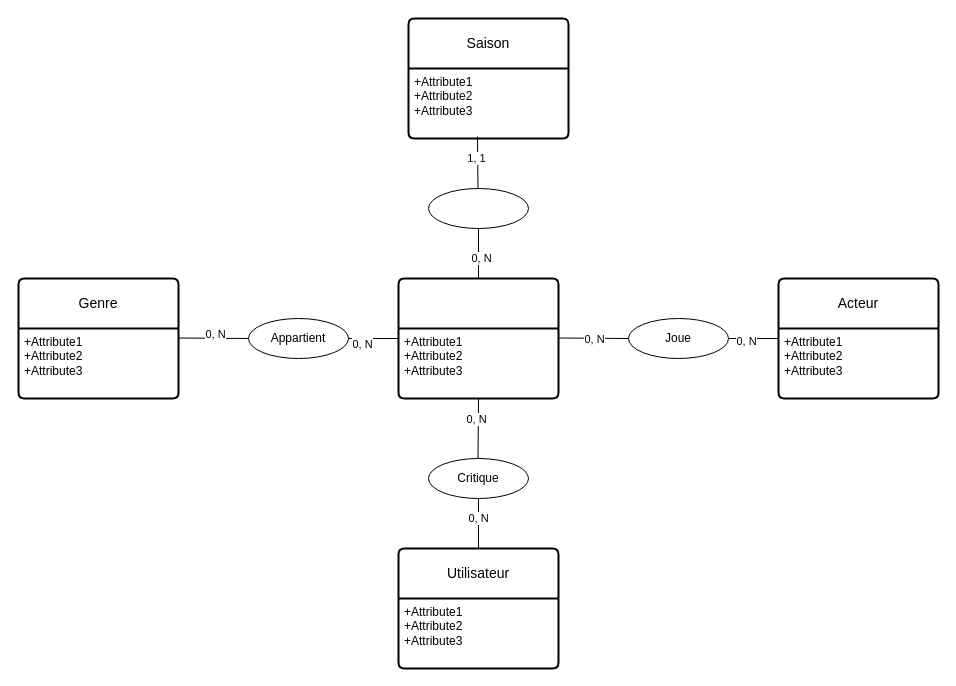
Image size: 956x686. Some labels were removed from this diagram. The box of each missing label's shape, as (x1, y1, x2, y2) in pixels:
Comporte: (428, 188, 528, 228)
Film/serie: (397, 277, 559, 399)
